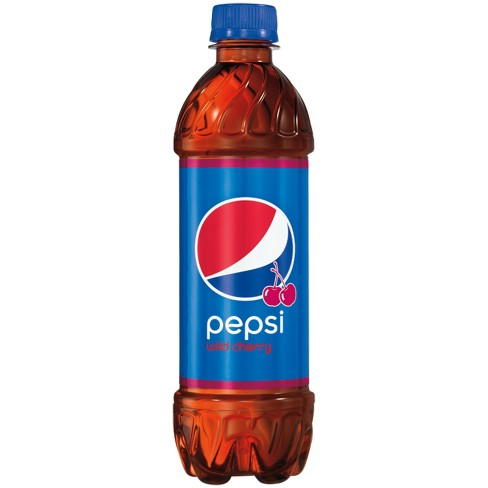pepsi: (189, 195, 294, 301), (193, 195, 294, 301)
